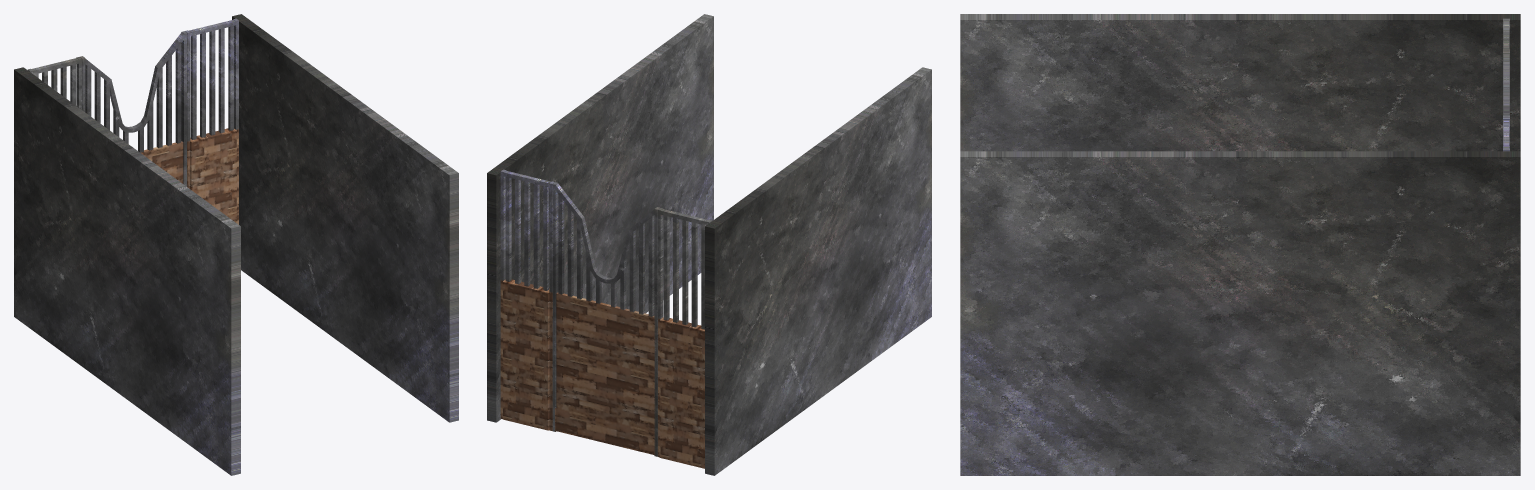
The model's file is Stable.fbx.
3 renders of one model, left to right at view 1: azimuth 30°, elevation 25°; view 2: azimuth 150°, elevation 25°; view 3: azimuth 270°, elevation 25°, orthographic. The views are drawn at different scales.
Parts seen in each view (by area): view 1: FrontWall, Gate; view 2: FrontWall, Gate; view 3: FrontWall.
Part boxes in pixels (<box>): FrontWall: <box>14,14,458,475</box>; Gate: <box>80,31,186,186</box>; FrontWall: <box>487,14,931,475</box>; Gate: <box>552,182,659,456</box>; FrontWall: <box>960,14,1520,475</box>.
Size of the model in its own units: 605 by 631 by 1001.
